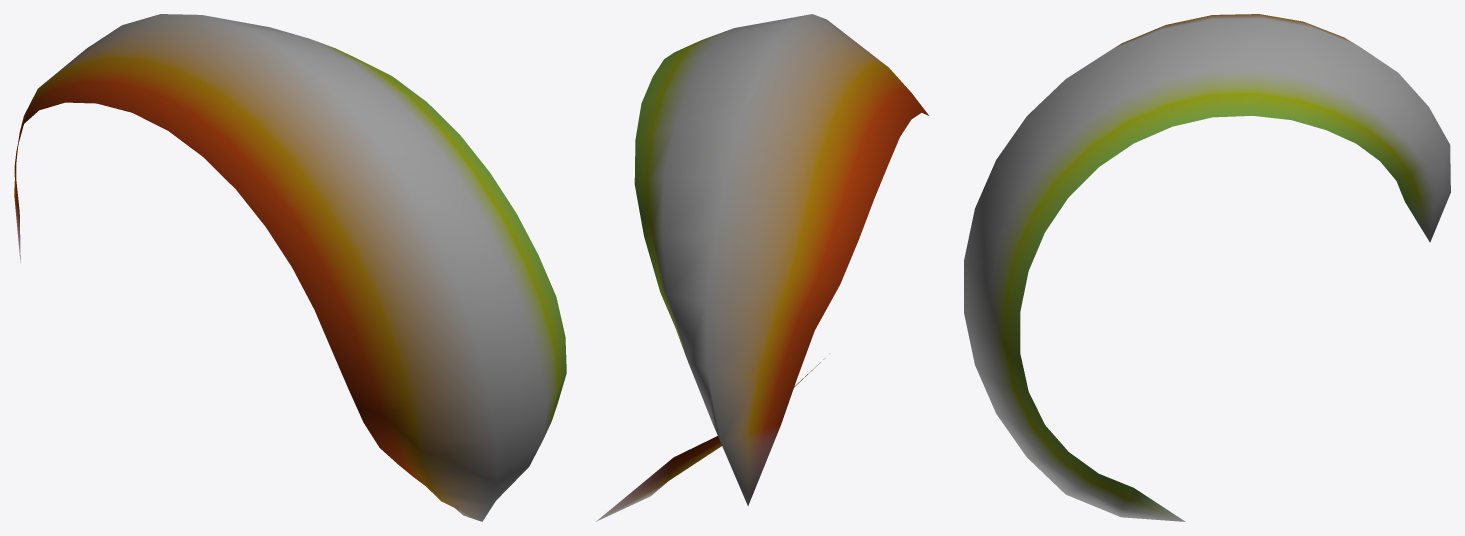
Rendered from CloudOfBats_Swoosh01_FxSM.gltf.
3 renders of one model, left to right at view 1: azimuth 30°, elevation 25°; view 2: azimuth 150°, elevation 25°; view 3: azimuth 270°, elevation 25°, orthographic. The views are drawn at different scales.
Visible parts, largest first — view 1: CloudOfBats_Swoosh01_FxSM; view 2: CloudOfBats_Swoosh01_FxSM; view 3: CloudOfBats_Swoosh01_FxSM.
Part boxes in pixels (left/top/right/bottom): CloudOfBats_Swoosh01_FxSM: left=14, top=14, right=566, bottom=521; CloudOfBats_Swoosh01_FxSM: left=596, top=14, right=928, bottom=521; CloudOfBats_Swoosh01_FxSM: left=964, top=14, right=1450, bottom=521.
Size of the model in its own units: 1.34 by 1.75 by 1.81.
